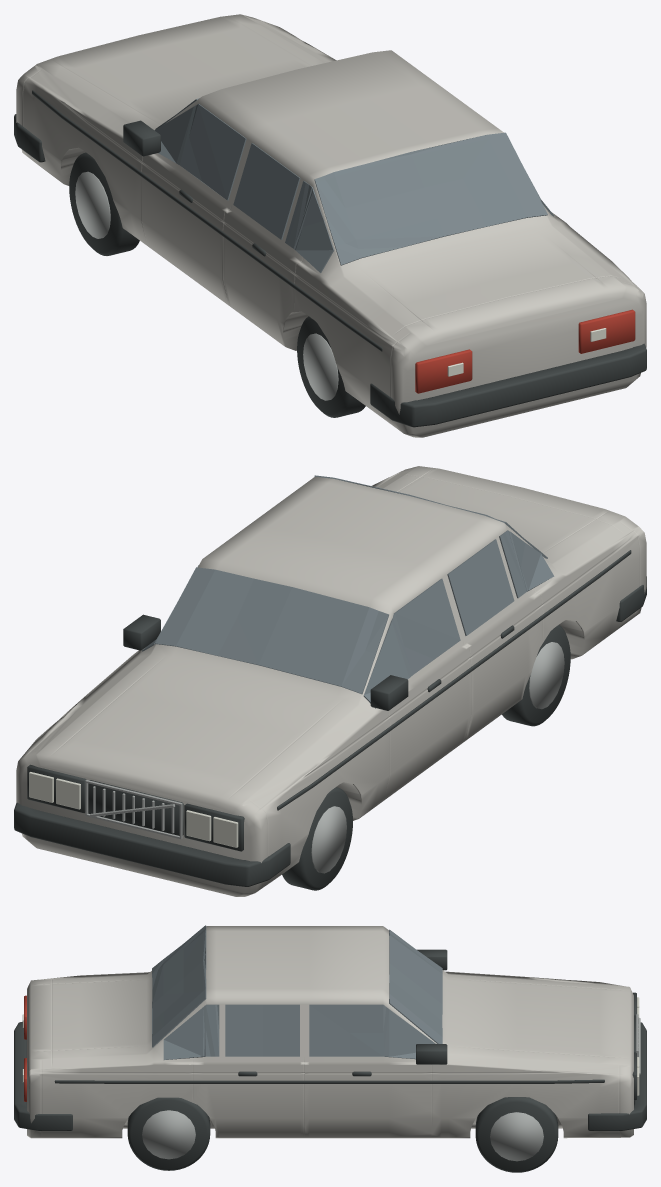
The model's file is volvo240.glb.
The picture shows the model from 3 angles, top to bottom: view 1: azimuth 30°, elevation 25°; view 2: azimuth 150°, elevation 25°; view 3: azimuth 270°, elevation 25°; orthographic projection. The views are drawn at different scales.
Parts seen in each view (by area): view 1: body, glass_envelope, bumper_rear, wheel_fl, trim_side_-1, wheel_rl, trim_rim_wheel_fl, trim_rim_wheel_rl, lamp_rear_-1, lamp_rear_1, mirror_housing, bumper_front; view 2: body, glass_envelope, bumper_front, wheel_fl, grille_front, trim_side_-1, wheel_rl, trim_rim_wheel_fl, trim_rim_wheel_rl, lamp_front_lenses_-1, lamp_front_lenses_1, grille_slats_and_diagonal (+6 smaller); view 3: body, glass_envelope, wheel_fr, wheel_rr, trim_side_1, trim_rim_wheel_rr, trim_rim_wheel_fr, bumper_rear, bumper_front, mirror_housing.001, mirror_housing.
Boxes of the visible parts, x1,y1,x2,y2 form: body: (16, 14, 646, 437); glass_envelope: (154, 98, 554, 272); bumper_rear: (370, 343, 646, 427); wheel_fl: (69, 152, 139, 255); trim_side_-1: (32, 90, 382, 351); wheel_rl: (297, 316, 365, 417); trim_rim_wheel_fl: (75, 171, 110, 238); trim_rim_wheel_rl: (303, 333, 338, 400); lamp_rear_-1: (415, 349, 472, 393); lamp_rear_1: (578, 309, 635, 353); mirror_housing: (123, 120, 160, 156); bumper_front: (14, 114, 45, 162); body: (16, 466, 646, 896); glass_envelope: (142, 475, 554, 708); bumper_front: (14, 802, 290, 886); wheel_fl: (282, 787, 352, 890); grille_front: (88, 780, 183, 835); trim_side_-1: (277, 550, 631, 810); wheel_rl: (502, 625, 570, 726); trim_rim_wheel_fl: (311, 806, 346, 873); trim_rim_wheel_rl: (529, 642, 564, 709); lamp_front_lenses_-1: (186, 810, 238, 847); lamp_front_lenses_1: (29, 772, 80, 809); grille_slats_and_diagonal: (90, 786, 175, 833); body: (27, 926, 633, 1138); glass_envelope: (152, 925, 442, 1059); wheel_fr: (475, 1097, 558, 1172); wheel_rr: (127, 1097, 210, 1170); trim_side_1: (54, 1079, 604, 1083); trim_rim_wheel_rr: (142, 1110, 195, 1159); trim_rim_wheel_fr: (490, 1112, 543, 1161); bumper_rear: (14, 1022, 72, 1130); bumper_front: (588, 1022, 646, 1130); mirror_housing.001: (416, 1044, 447, 1064); mirror_housing: (417, 949, 447, 970).
Bounding box in the file's own units: 1.83 × 1.43 × 4.82.
